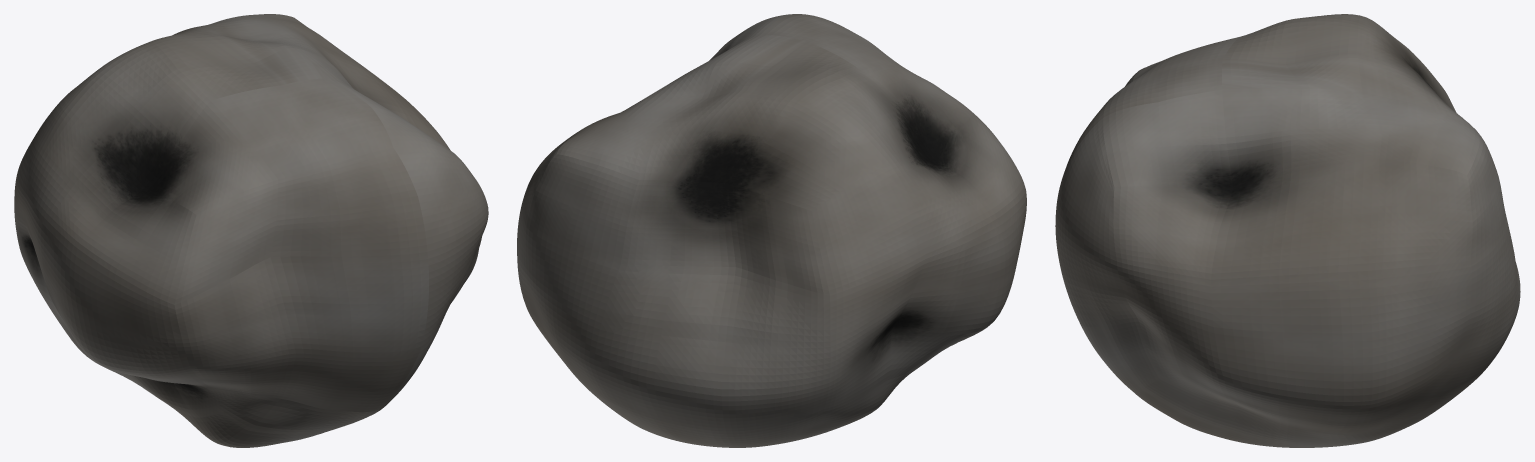
File: asteroid_highpoly.fbx
3 views of the same model, side by side, from view 1: azimuth 30°, elevation 25°; view 2: azimuth 150°, elevation 25°; view 3: azimuth 270°, elevation 25° (orthographic).
Visible parts, largest first — view 1: asteroid_highpoly; view 2: asteroid_highpoly; view 3: asteroid_highpoly.
Part boxes in pixels (left/top/right/bottom): asteroid_highpoly: left=14, top=14, right=488, bottom=447; asteroid_highpoly: left=517, top=14, right=1026, bottom=447; asteroid_highpoly: left=1055, top=14, right=1520, bottom=447.
Bounding box in the file's own units: 2011 × 1720 × 1951.
